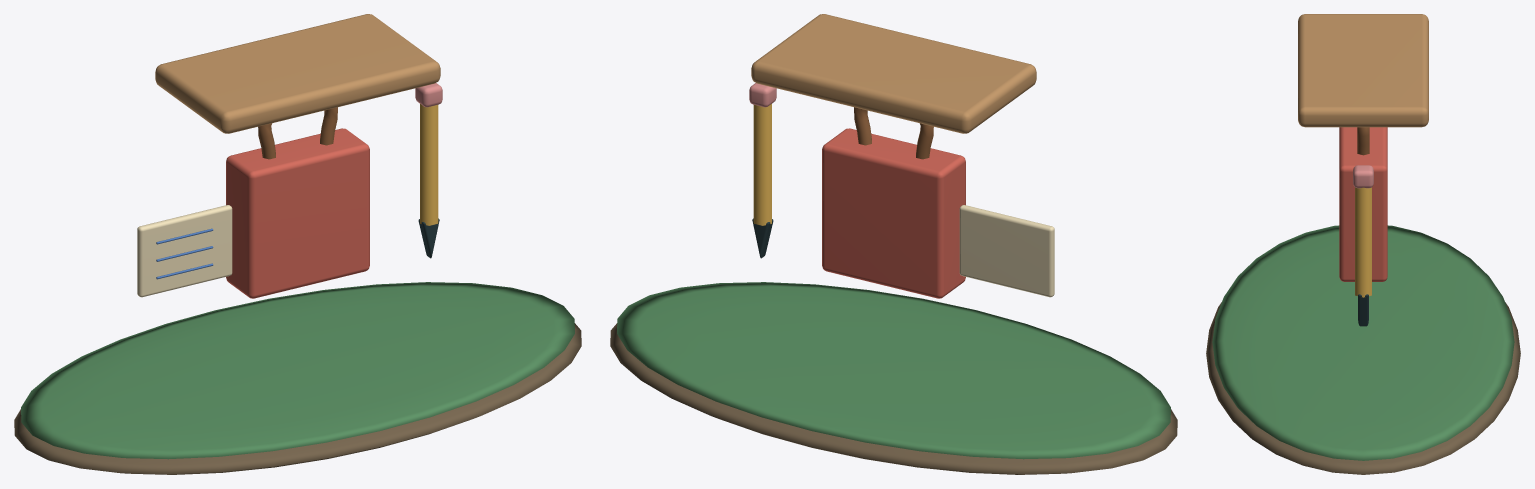
Rendered from writing-gift.glb.
The picture shows the model from 3 angles, left to right: view 1: azimuth 30°, elevation 25°; view 2: azimuth 150°, elevation 25°; view 3: azimuth 270°, elevation 25°; orthographic projection. The views are drawn at different scales.
Parts seen in each view (by area): view 1: writing-gift_surface_01, writing-gift_surface_03, writing-gift_surface_02, writing-gift_surface_00, writing-gift_surface_08, writing-gift_surface_05, writing-gift_surface_04; view 2: writing-gift_surface_01, writing-gift_surface_03, writing-gift_surface_02, writing-gift_surface_00, writing-gift_surface_08, writing-gift_surface_05, writing-gift_surface_04; view 3: writing-gift_surface_01, writing-gift_surface_02, writing-gift_surface_00, writing-gift_surface_03, writing-gift_surface_05, writing-gift_surface_07, writing-gift_surface_04, writing-gift_surface_06.
Boxes of the visible parts, box(x1,y1,x2,y2) form: writing-gift_surface_01: box(21, 282, 574, 459); writing-gift_surface_03: box(226, 128, 369, 298); writing-gift_surface_02: box(155, 14, 440, 133); writing-gift_surface_00: box(14, 323, 581, 474); writing-gift_surface_08: box(137, 205, 232, 297); writing-gift_surface_05: box(420, 104, 438, 225); writing-gift_surface_04: box(258, 107, 337, 159); writing-gift_surface_01: box(617, 282, 1170, 459); writing-gift_surface_03: box(822, 128, 965, 298); writing-gift_surface_02: box(751, 14, 1036, 133); writing-gift_surface_00: box(610, 323, 1177, 474); writing-gift_surface_08: box(959, 205, 1054, 297); writing-gift_surface_05: box(753, 104, 771, 225); writing-gift_surface_04: box(854, 107, 933, 159); writing-gift_surface_01: box(1212, 225, 1514, 460); writing-gift_surface_02: box(1298, 14, 1428, 127); writing-gift_surface_00: box(1206, 302, 1520, 474); writing-gift_surface_03: box(1339, 127, 1387, 281); writing-gift_surface_05: box(1355, 187, 1371, 297); writing-gift_surface_07: box(1353, 165, 1373, 188); writing-gift_surface_04: box(1357, 127, 1369, 155); writing-gift_surface_06: box(1358, 294, 1368, 326).
Size of the model in its own units: 4.56 by 2.7 by 2.5.
